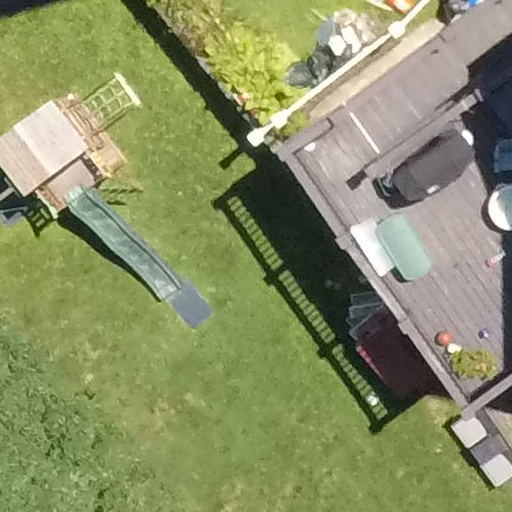container: (373, 205, 430, 289), (347, 211, 399, 281)
